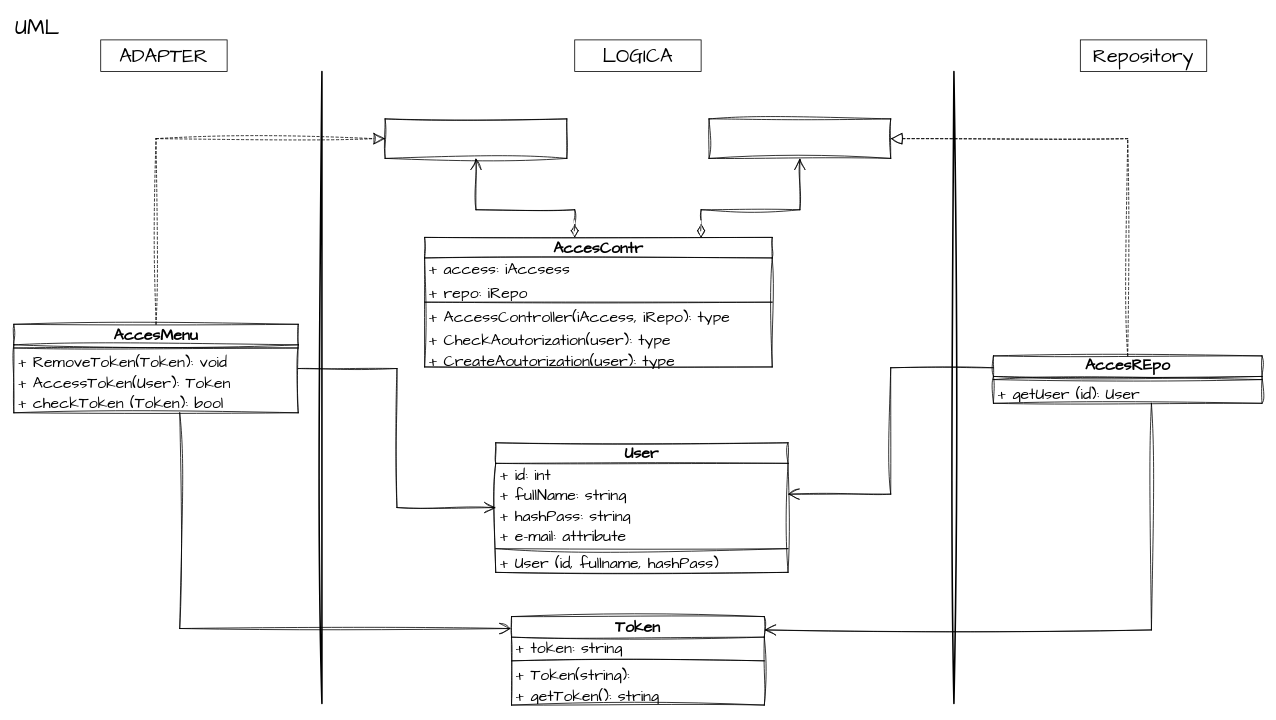
The diagram is 1276 pixels wide and 720 high, and some of its shapes have lost their labels. Each missing label, with the centre of its shape:
"«interface» iAccess" goes at (475,138).
"«interface» iRepo" goes at (799,138).
